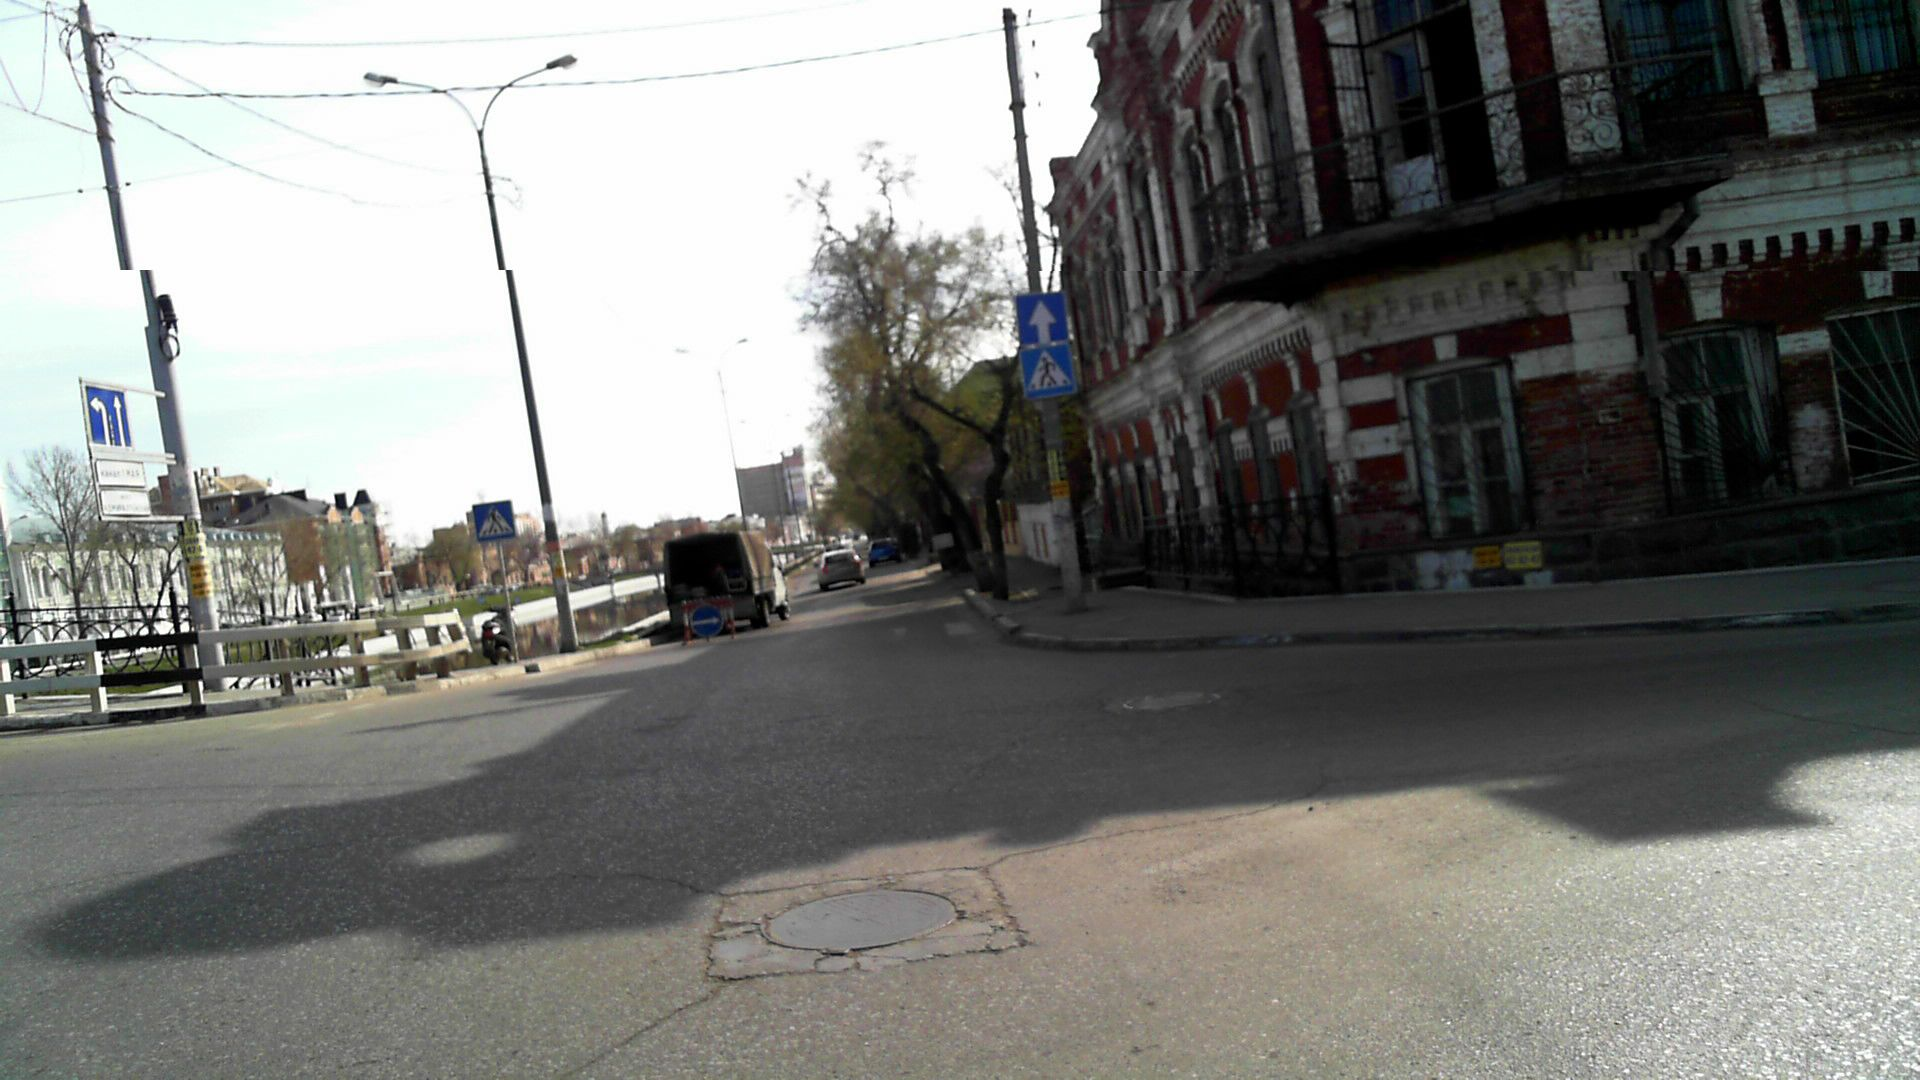Turn Right: (691, 607, 723, 638)
